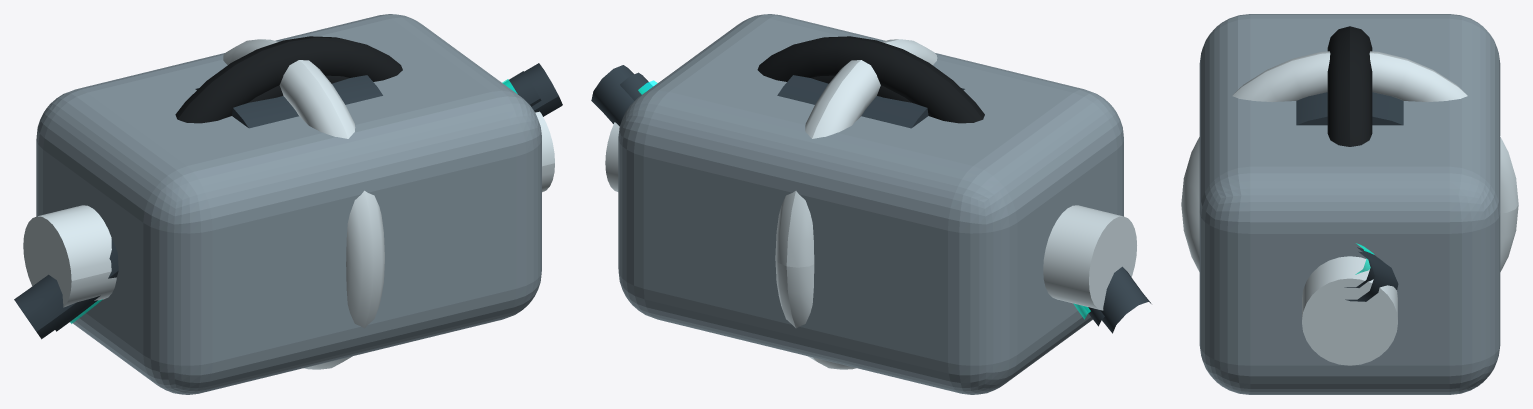
File: g4ed_fuel_injection.glb
3 views of the same model, side by side, from view 1: azimuth 30°, elevation 25°; view 2: azimuth 150°, elevation 25°; view 3: azimuth 270°, elevation 25° (orthographic).
Parts seen in each view (by area): view 1: asset_mesh__g4ed_237__reference_body, asset_mesh__g4ed_236__reference_rim, asset_mesh__g4ed_223__reference_seal, asset_mesh__g4ed_237__reference_axis, asset_mesh__g4ed_230__reference_flow_path, asset_mesh__g4ed_236__reference_rotor, asset_mesh__g4ed_229__reference_flow_path; view 2: asset_mesh__g4ed_237__reference_body, asset_mesh__g4ed_236__reference_rim, asset_mesh__g4ed_223__reference_seal, asset_mesh__g4ed_237__reference_axis, asset_mesh__g4ed_230__reference_flow_path, asset_mesh__g4ed_236__reference_rotor, asset_mesh__g4ed_229__reference_flow_path; view 3: asset_mesh__g4ed_237__reference_body, asset_mesh__g4ed_236__reference_rim, asset_mesh__g4ed_237__reference_axis, asset_mesh__g4ed_223__reference_seal, asset_mesh__g4ed_236__reference_rotor, asset_mesh__g4ed_230__reference_flow_path.
Boxes of the visible parts, x1,y1,x2,y2 form: asset_mesh__g4ed_237__reference_body: (36,14,541,394); asset_mesh__g4ed_236__reference_rim: (223,39,384,369); asset_mesh__g4ed_223__reference_seal: (175,36,402,123); asset_mesh__g4ed_237__reference_axis: (23,111,554,307); asset_mesh__g4ed_230__reference_flow_path: (14,63,562,339); asset_mesh__g4ed_236__reference_rotor: (195,75,382,128); asset_mesh__g4ed_229__reference_flow_path: (55,71,541,331); asset_mesh__g4ed_237__reference_body: (618,14,1123,394); asset_mesh__g4ed_236__reference_rim: (775,39,937,369); asset_mesh__g4ed_223__reference_seal: (757,36,984,123); asset_mesh__g4ed_237__reference_axis: (605,122,1136,310); asset_mesh__g4ed_230__reference_flow_path: (591,65,1151,333); asset_mesh__g4ed_236__reference_rotor: (777,75,964,128); asset_mesh__g4ed_229__reference_flow_path: (620,72,1104,326); asset_mesh__g4ed_237__reference_body: (1199,14,1500,394); asset_mesh__g4ed_236__reference_rim: (1181,51,1518,271); asset_mesh__g4ed_237__reference_axis: (1302,256,1397,365); asset_mesh__g4ed_223__reference_seal: (1327,26,1372,146); asset_mesh__g4ed_236__reference_rotor: (1296,92,1403,125); asset_mesh__g4ed_230__reference_flow_path: (1345,251,1398,301).
Bounding box in the file's own units: 2.23 × 1.27 × 1.2.
